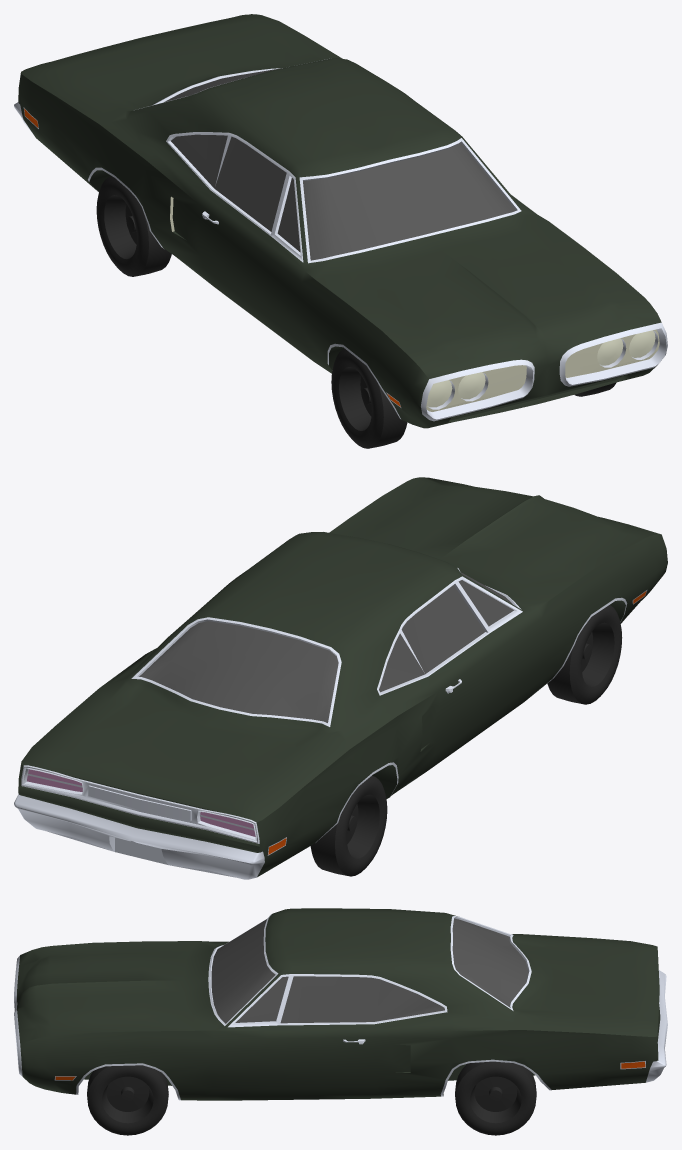
3 renders of one model, top to bottom at view 1: azimuth 30°, elevation 25°; view 2: azimuth 150°, elevation 25°; view 3: azimuth 270°, elevation 25°, orthographic. The views are drawn at different scales.
Parts seen in each view (by area): view 1: Group_001; view 2: Group_001; view 3: Group_001.
Part boxes in pixels (x1=…): Group_001: x1=14, y1=14, x2=667, y2=448; Group_001: x1=14, y1=477, x2=667, y2=879; Group_001: x1=14, y1=908, x2=667, y2=1135.
Bounding box in the file's own units: 327 × 242 × 911.
